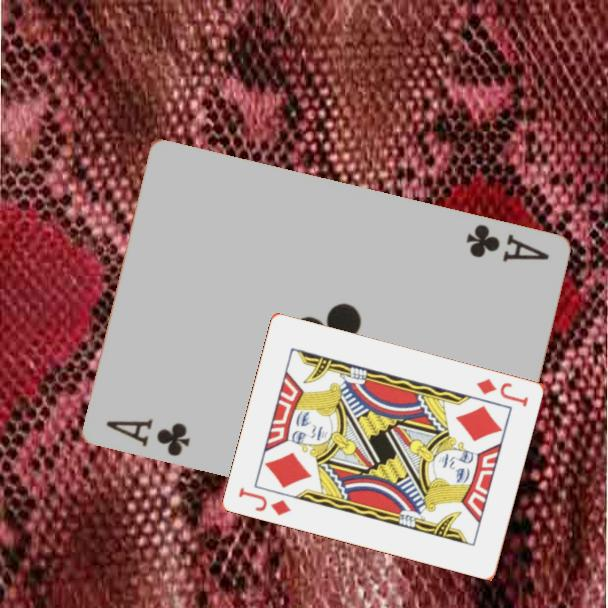c01: (102, 415, 193, 460), (461, 220, 552, 265)
d11: (235, 483, 294, 518), (473, 375, 532, 409)
